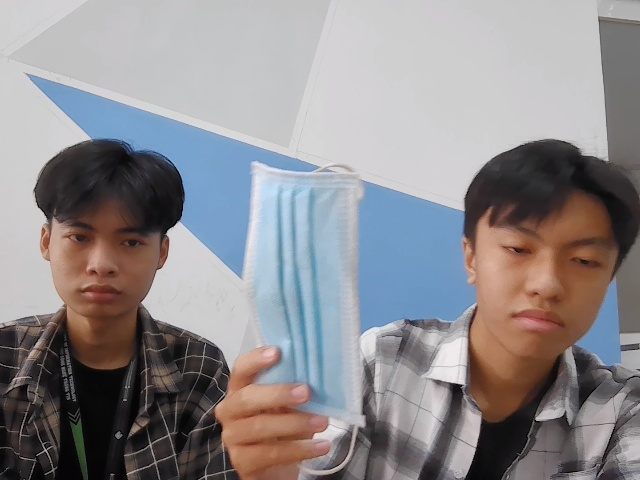human: (464, 139, 640, 363), (37, 139, 184, 316)
mask: (243, 162, 368, 428)
